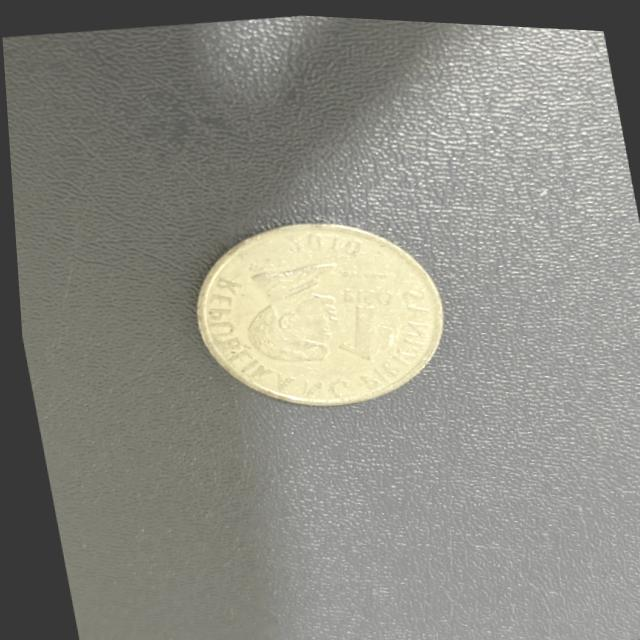1_Old_Front: (321, 276, 401, 359)
